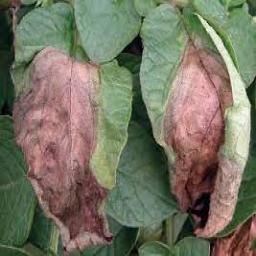Late_blight: (13, 46, 117, 253), (165, 34, 245, 239)
Leaf: (139, 3, 250, 238), (13, 44, 134, 253)
